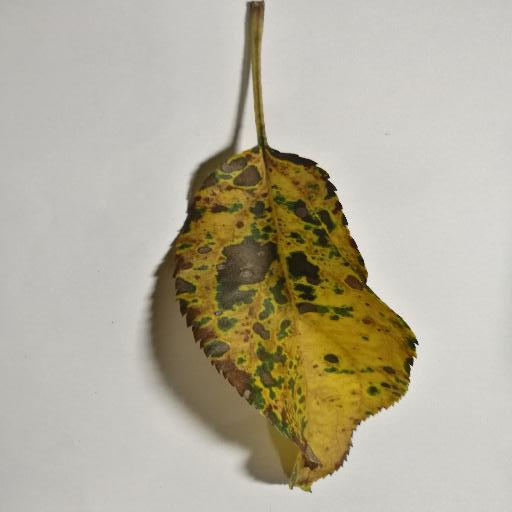Brown_Spot: (191, 161, 365, 404)
